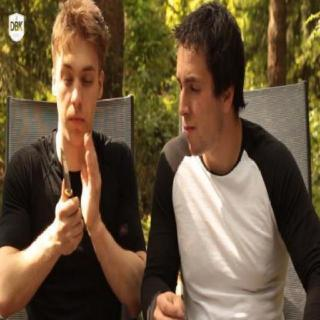knife: (51, 136, 87, 234)
